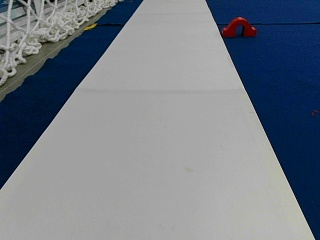bridge: (222, 17, 257, 35)
